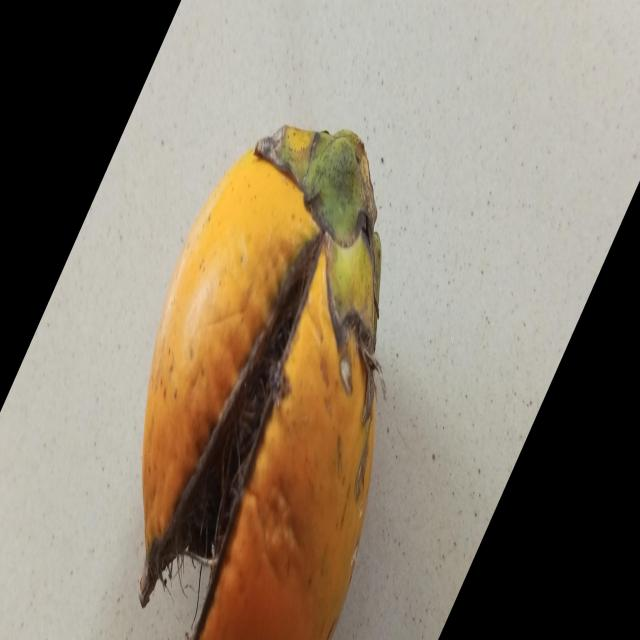damaged: (140, 126, 384, 640)
